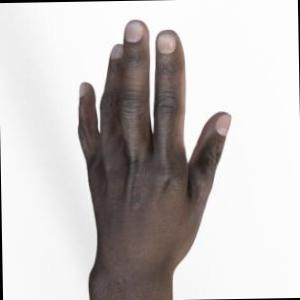paper: (78, 20, 230, 300)
